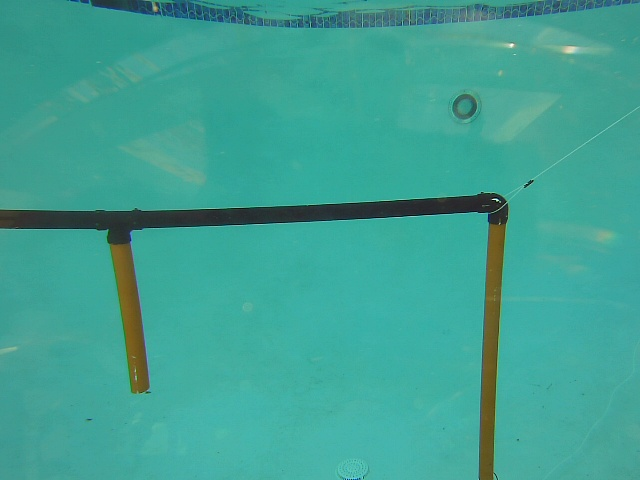Gate: (473, 217, 508, 480), (106, 233, 152, 397)
